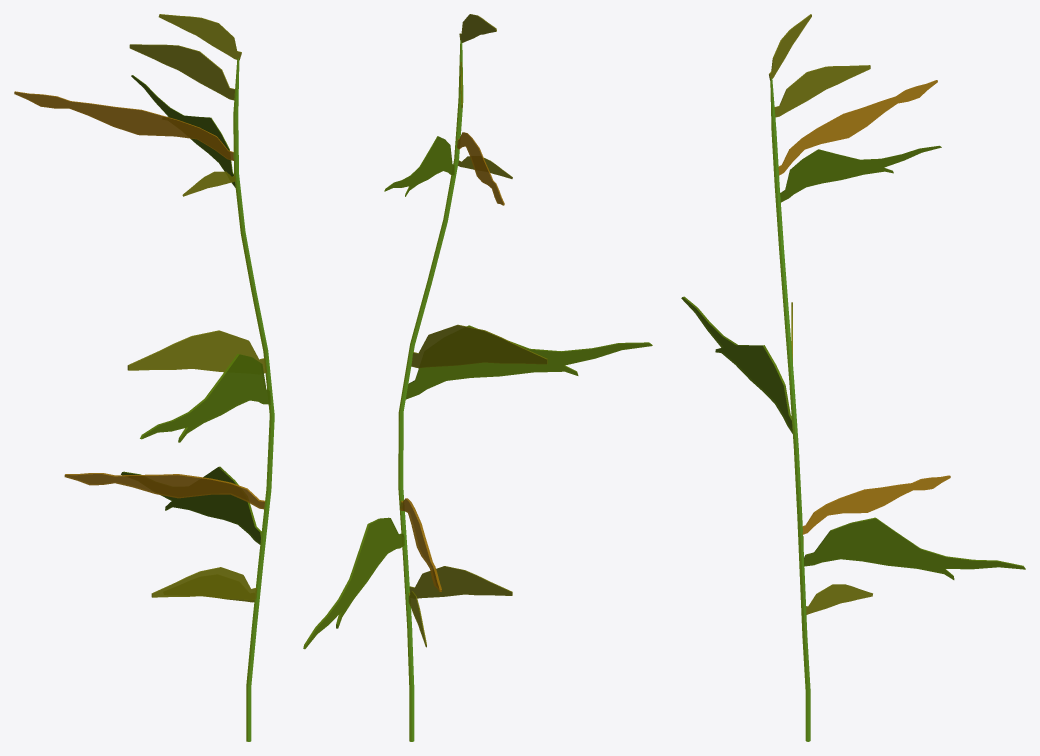
File: final_flora_phyl_a.fbx
The picture shows the model from 3 angles, left to right: view 1: azimuth 30°, elevation 25°; view 2: azimuth 150°, elevation 25°; view 3: azimuth 270°, elevation 25°; orthographic projection. The views are drawn at different scales.
Parts seen in each view (by area): view 1: pCube28; view 2: pCube28; view 3: pCube28.
Part boxes in pixels (box(x1,y1,x2,y2)): pCube28: box(14, 14, 274, 741); pCube28: box(303, 14, 652, 741); pCube28: box(681, 14, 1025, 741).
Bounding box in the file's own units: 6.16 × 22.38 × 10.17.
